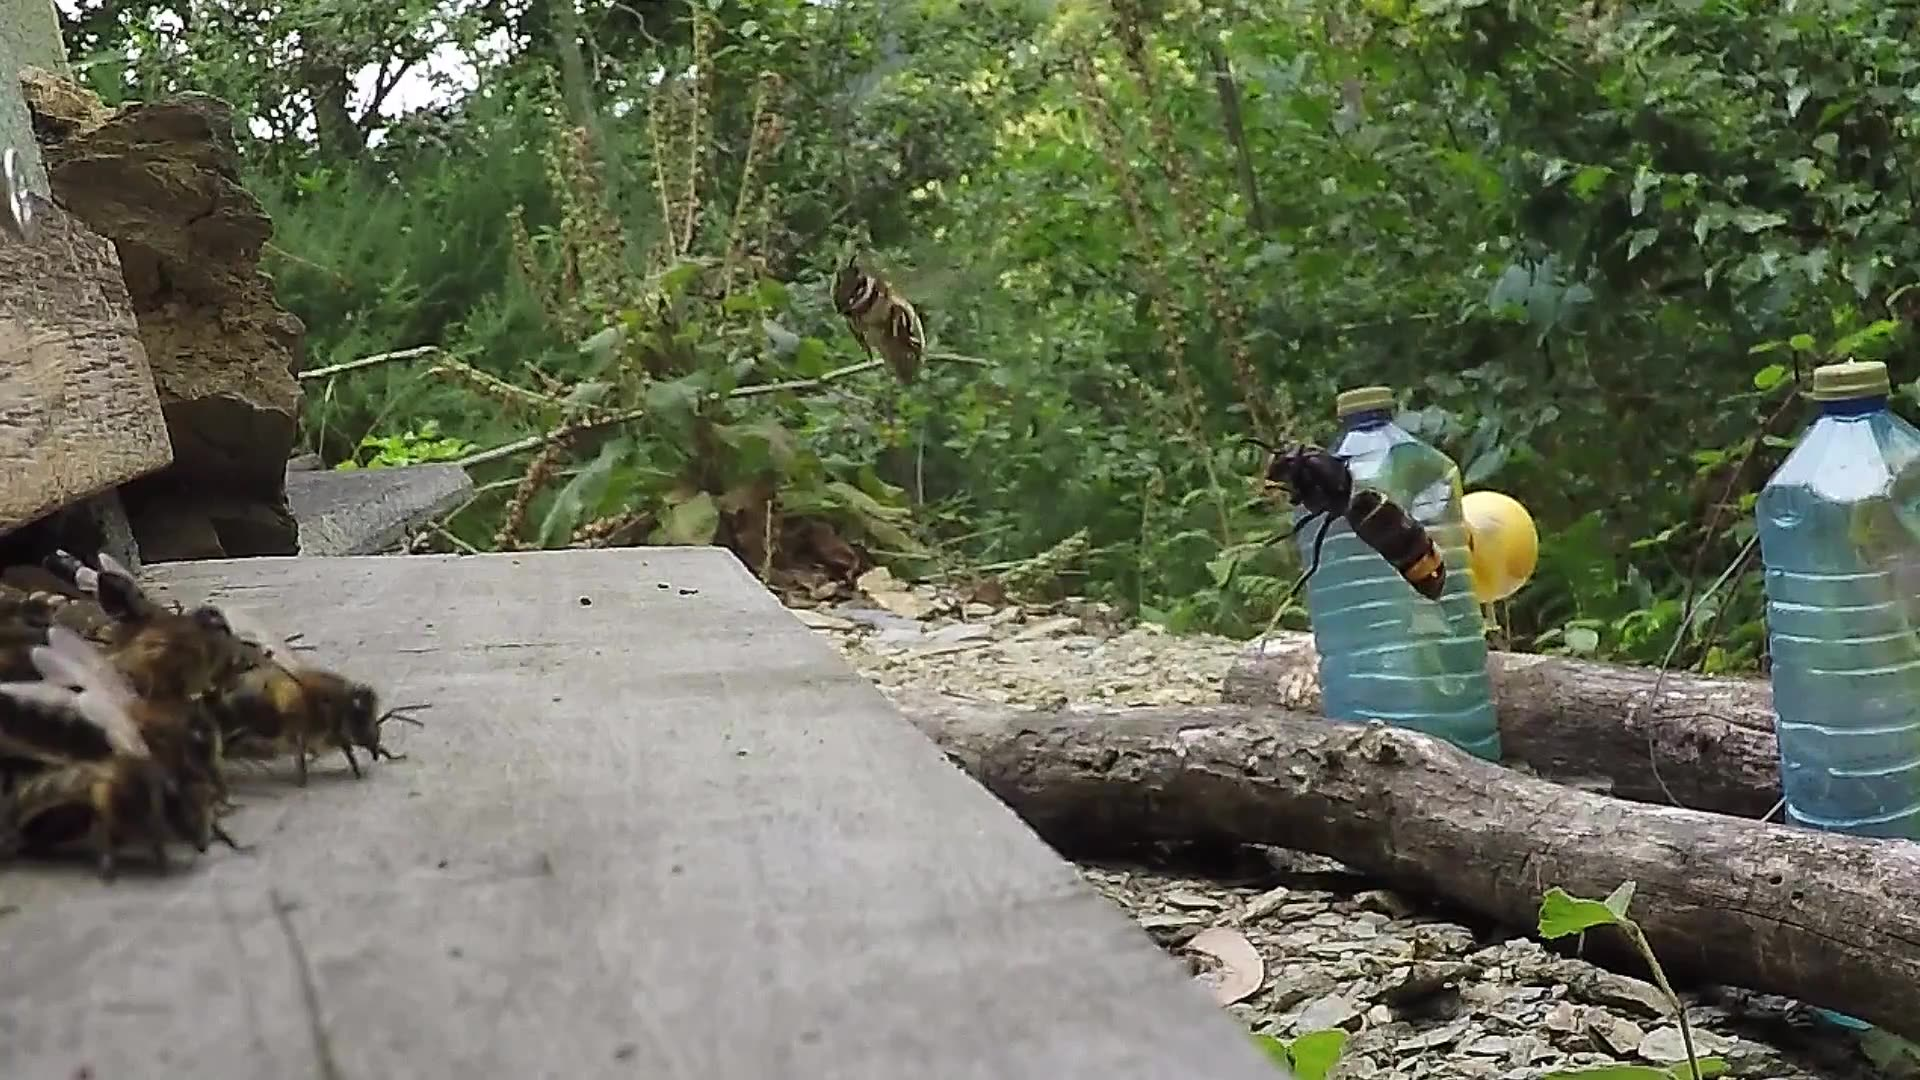bee: (1, 543, 273, 866), (225, 641, 396, 766), (816, 247, 940, 385)
hornet: (1261, 436, 1470, 616)
